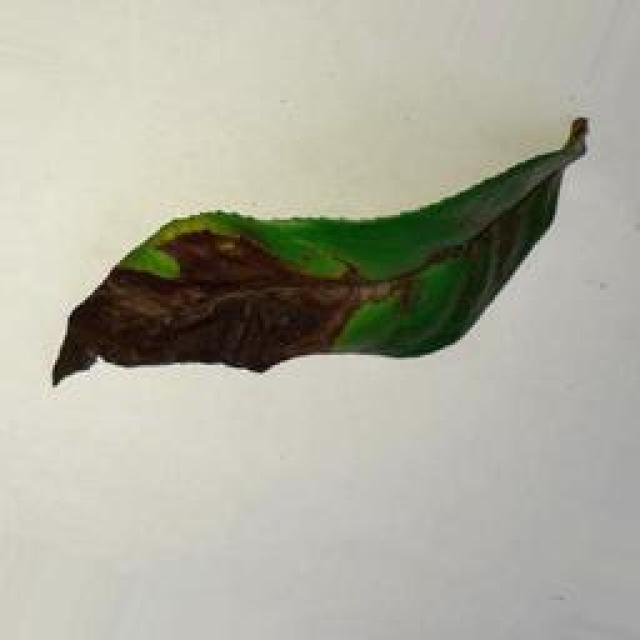Brown Blight: (41, 113, 600, 401)
